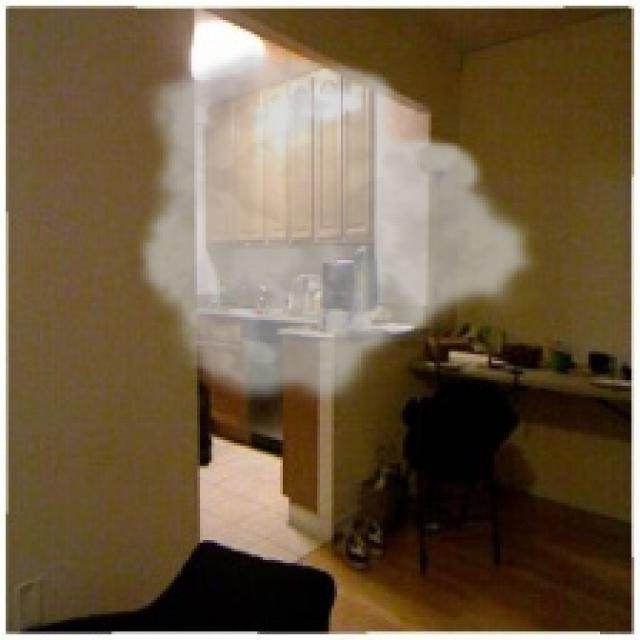smoke: (134, 46, 540, 411)
